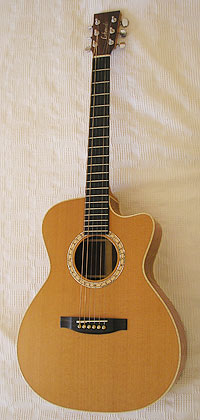guitar: (14, 10, 185, 413)
